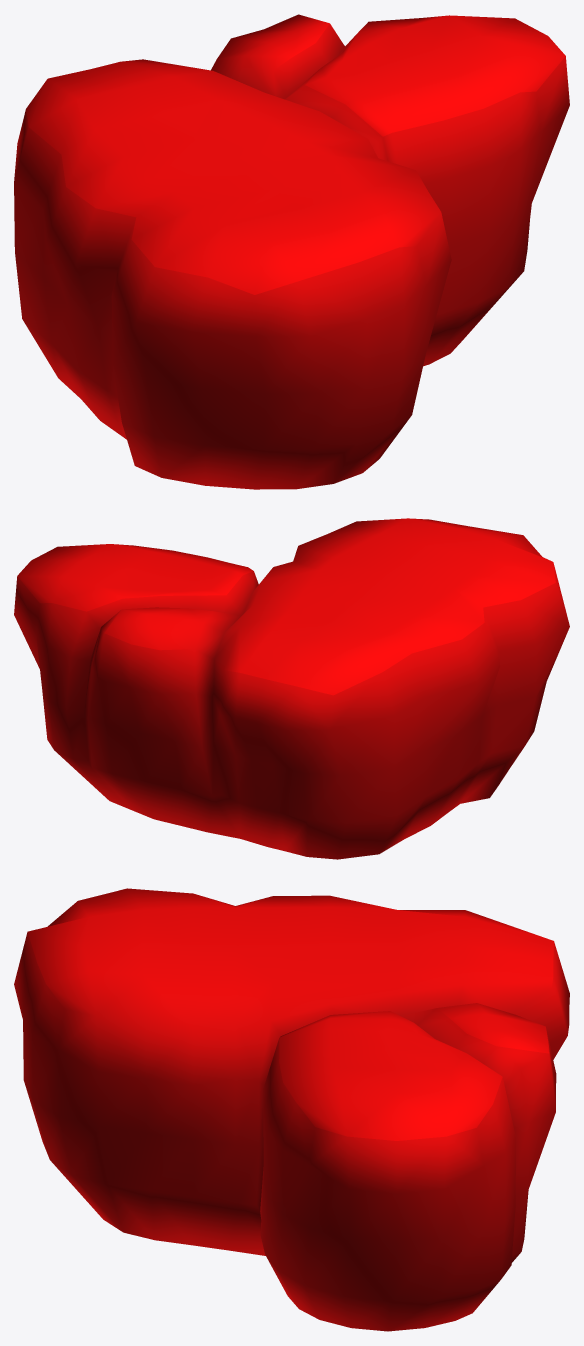
File: geology-landforms-icefloe_v5.fbx
3 views of the same model, one above another, from view 1: azimuth 30°, elevation 25°; view 2: azimuth 150°, elevation 25°; view 3: azimuth 270°, elevation 25° (orthographic). The views are drawn at different scales.
Visible parts, largest first — view 1: IceFloe_v5; view 2: IceFloe_v5; view 3: IceFloe_v5.
Boxes of the visible parts, x1=… form: IceFloe_v5: x1=14, y1=14, x2=569, y2=489; IceFloe_v5: x1=14, y1=518, x2=569, y2=859; IceFloe_v5: x1=14, y1=888, x2=569, y2=1331.
Bounding box in the file's own units: 3.72 × 1.67 × 3.31.
